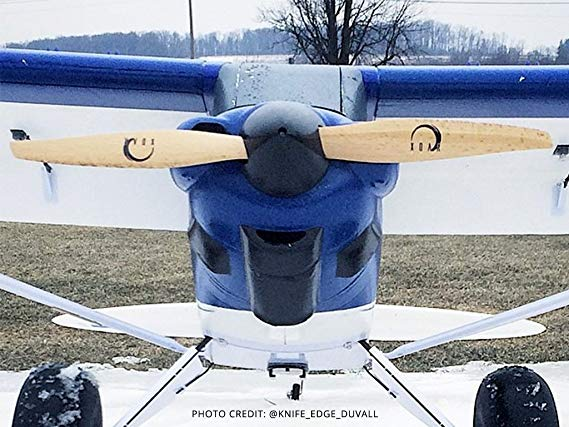Propeller: (36, 95, 554, 193)
